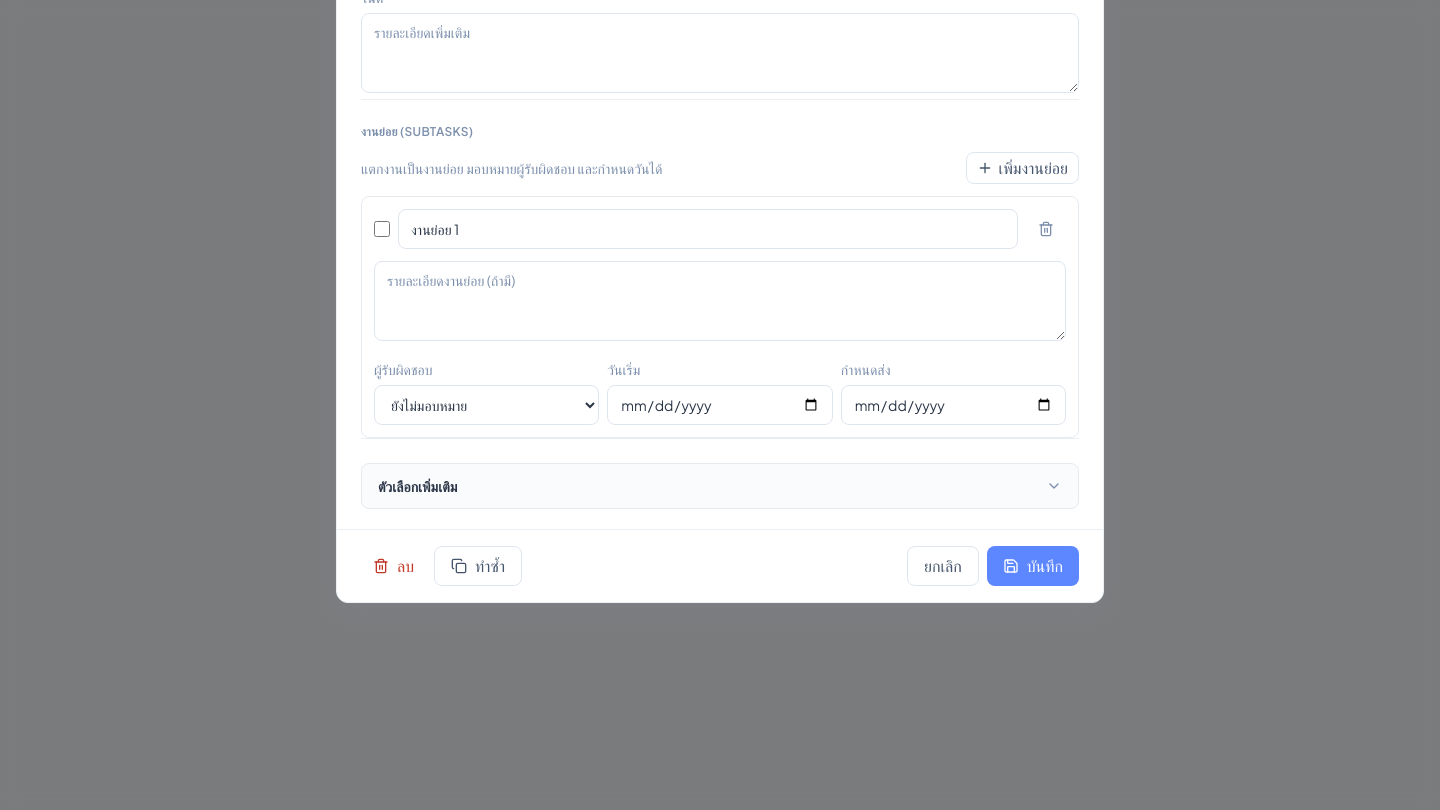
Test: ItemModal — subtask 'เพิ่มรายชื่อใหม่' inline add-assignee flow › pressing Escape in the new-name input cancels the add without closing the modal
(page scrolled)
Select "＋ เพิ่มรายชื่อใหม่…" in the dropdown named "ผู้รับผิดชอบงานย่อย": (487, 405) [374, 385, 599, 425]
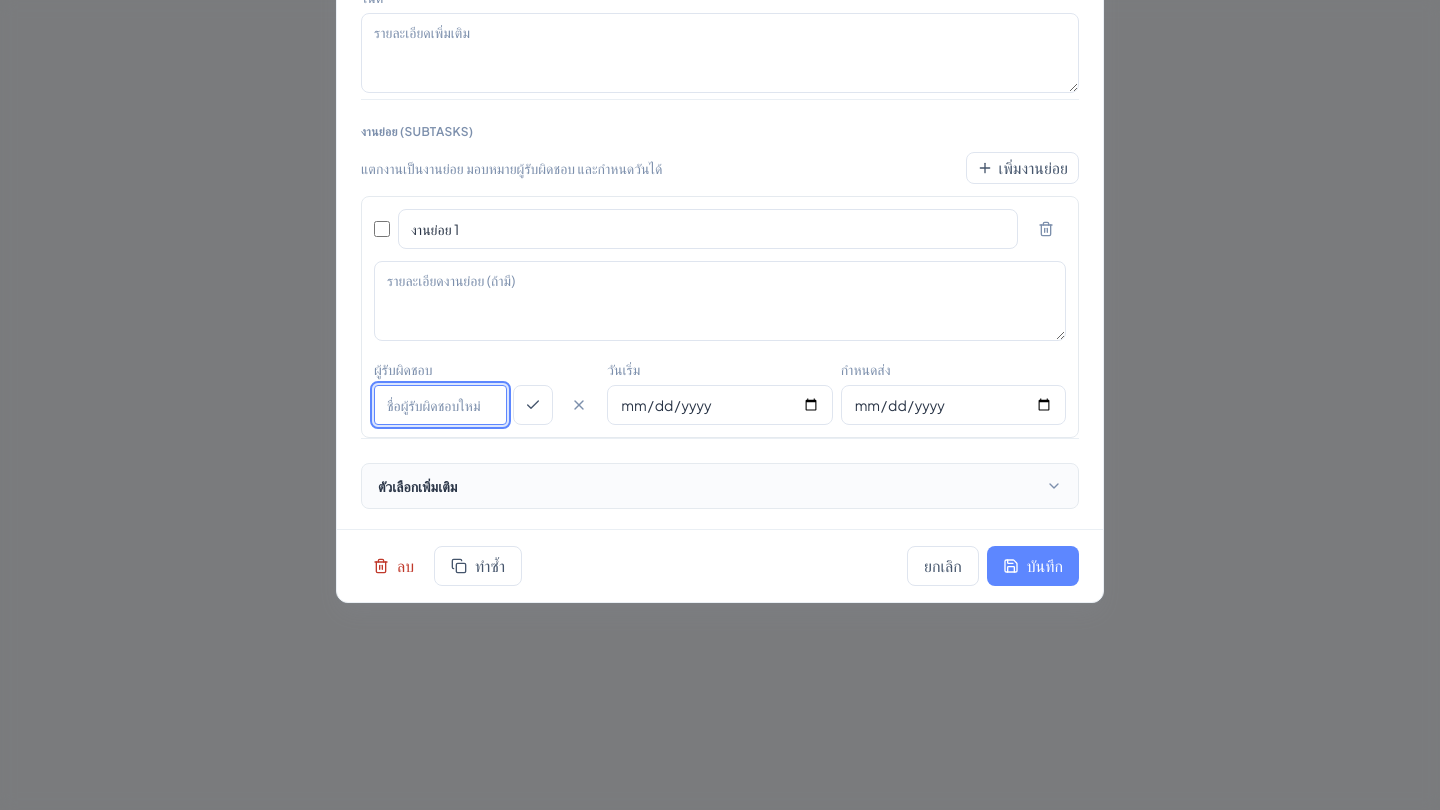
In the field named "ชื่อผู้รับผิดชอบใหม่": (441, 405) [374, 385, 507, 425], type "ชื่อที่ยังไม่ยืนยัน"
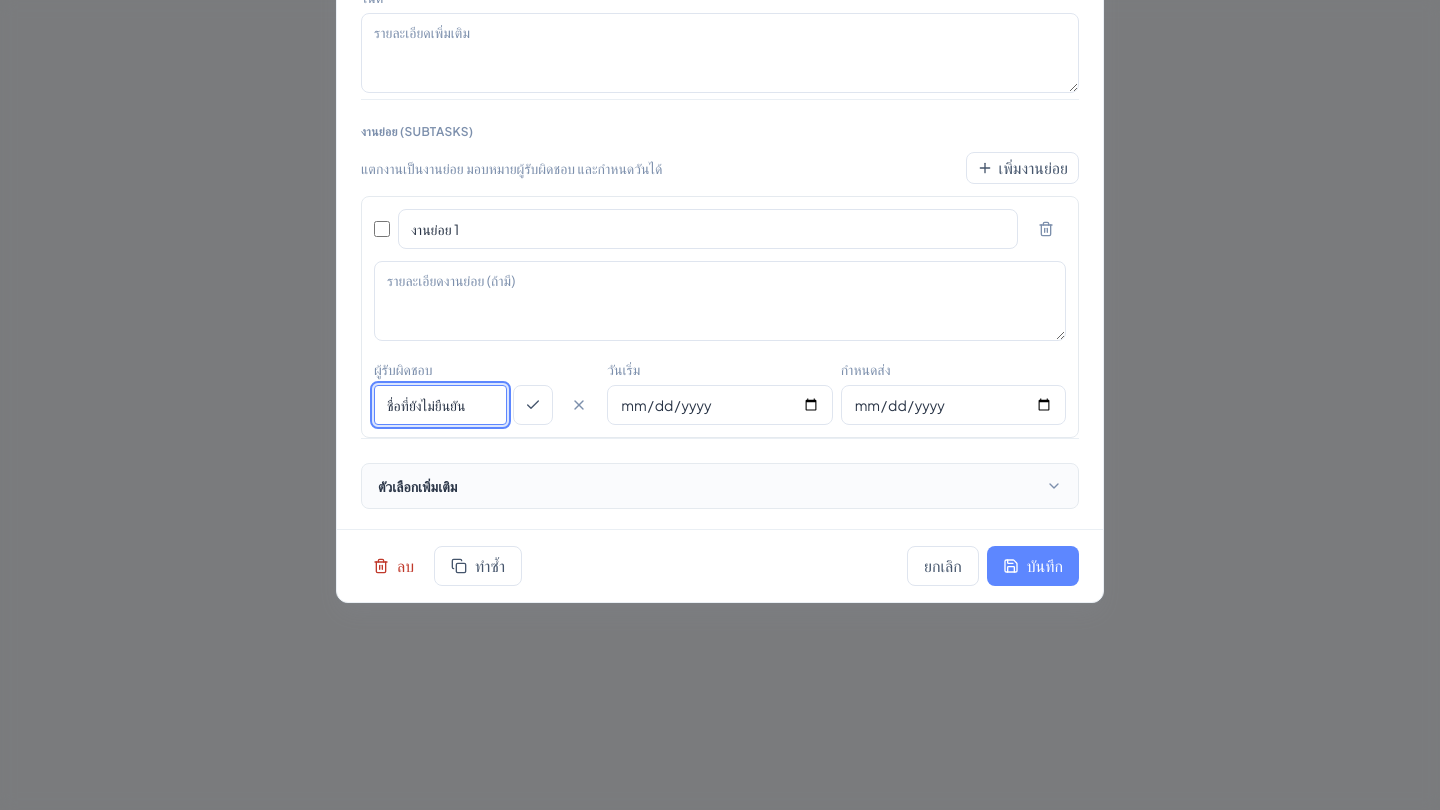
Press Escape in the field named "ชื่อผู้รับผิดชอบใหม่", box [374, 385, 507, 425]
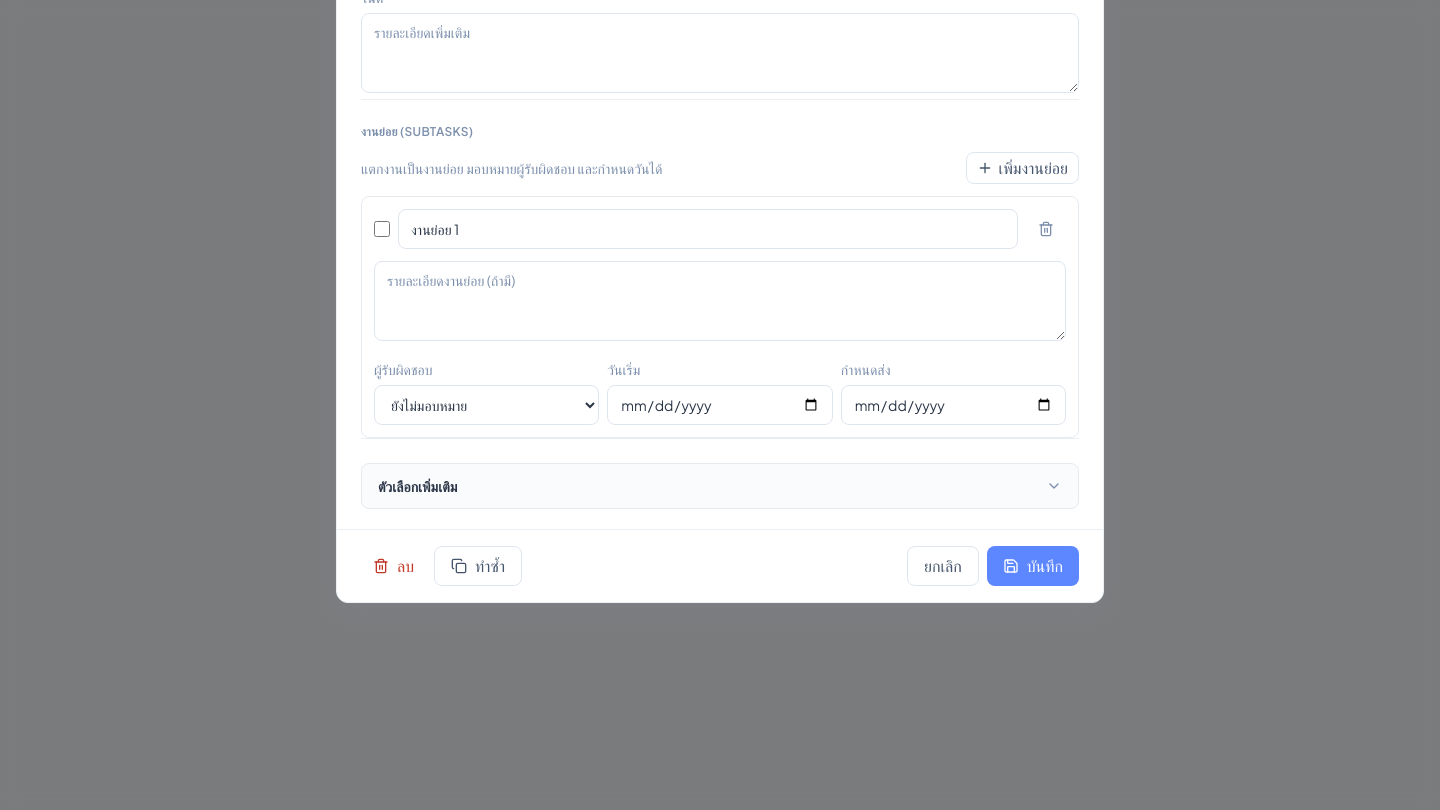
Check: the dropdown named "ผู้รับผิดชอบงานย่อย" shows "ยังไม่มอบหมาย", box [374, 385, 599, 425]
Check: the field labelled "ชื่อผู้รับผิดชอบใหม่" is gone
